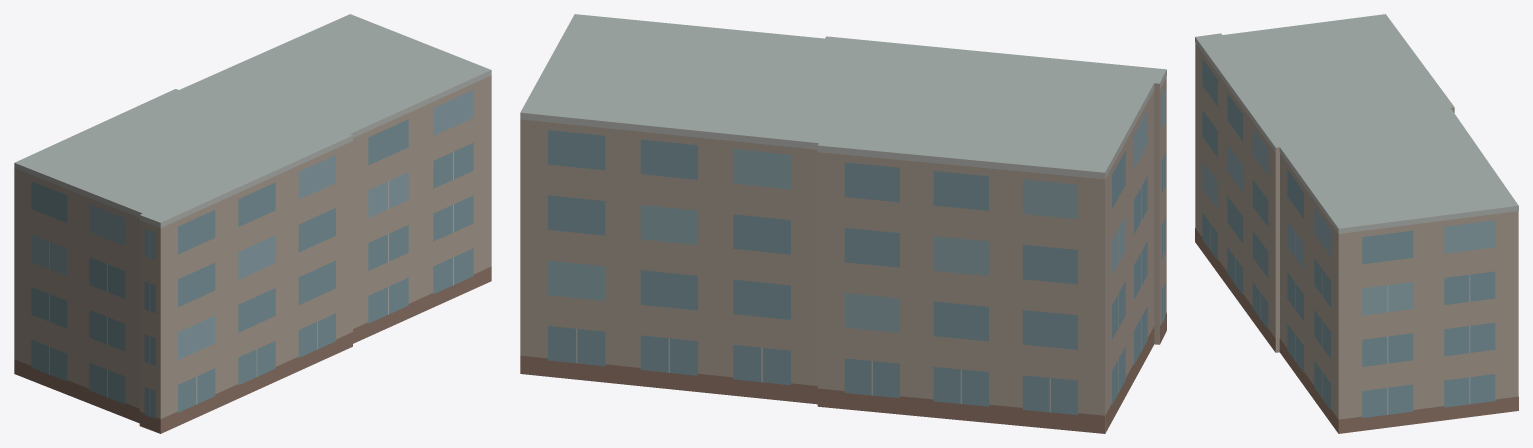
File: survey-upis-32971562.glb
3 views of the same model, side by side, from view 1: azimuth 30°, elevation 25°; view 2: azimuth 150°, elevation 25°; view 3: azimuth 270°, elevation 25° (orthographic). The views are drawn at different scales.
Visible parts, largest first — view 1: survey-upis-32971562.tmp; view 2: survey-upis-32971562.tmp; view 3: survey-upis-32971562.tmp.
Part boxes in pixels (x1,y1,x2,y2): survey-upis-32971562.tmp: (14,14,491,433); survey-upis-32971562.tmp: (520,14,1166,433); survey-upis-32971562.tmp: (1195,14,1518,433).
Bounding box in the file's own units: 21.48 × 9.56 × 13.68.
